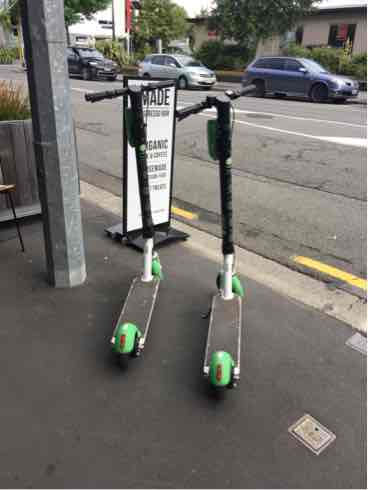scooter: (158, 76, 270, 386)
